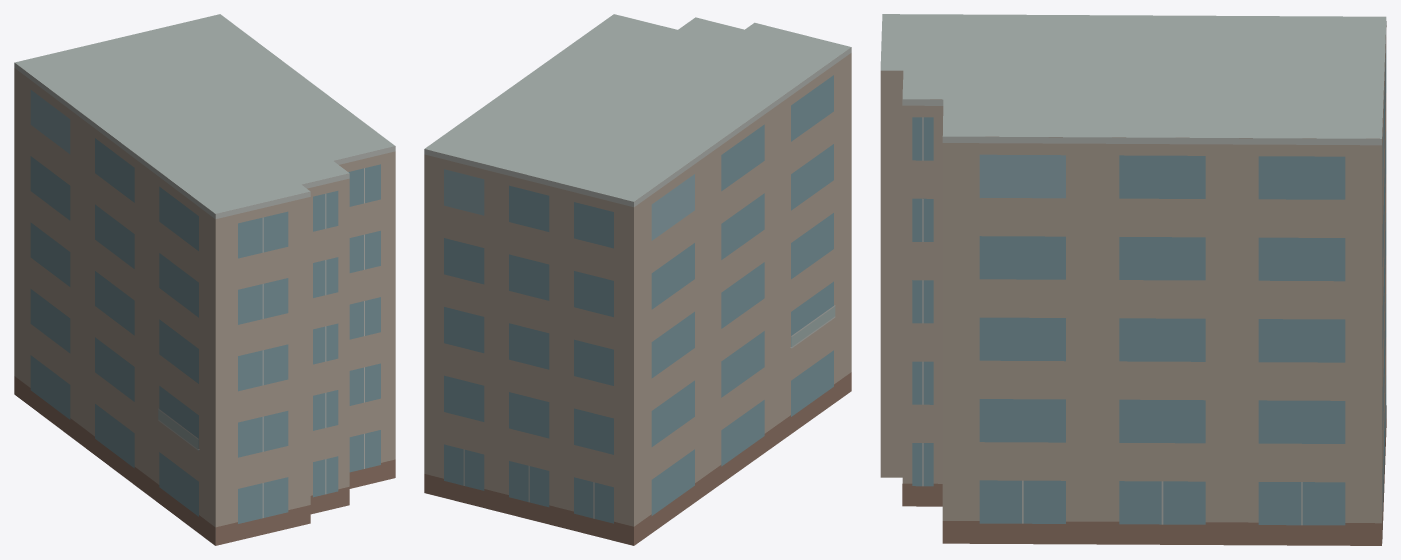
Rendered from survey-upis-32838256.glb.
The picture shows the model from 3 angles, left to right: view 1: azimuth 30°, elevation 25°; view 2: azimuth 150°, elevation 25°; view 3: azimuth 270°, elevation 25°; orthographic projection. The views are drawn at different scales.
Visible parts, largest first — view 1: survey-upis-32838256.tmp; view 2: survey-upis-32838256.tmp; view 3: survey-upis-32838256.tmp.
Boxes of the visible parts, <box> form: survey-upis-32838256.tmp: <box>14,14,395,545</box>; survey-upis-32838256.tmp: <box>424,14,851,545</box>; survey-upis-32838256.tmp: <box>880,14,1386,545</box>.
Bounding box in the file's own units: 10.12 × 15.35 × 17.3.
